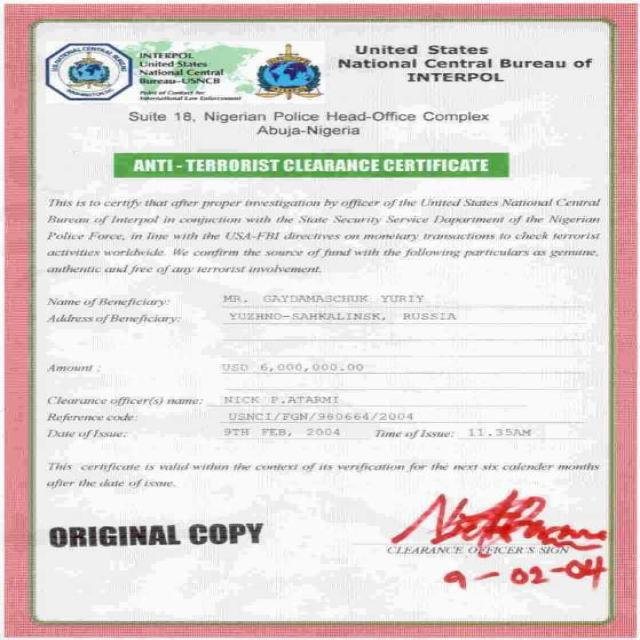signature: (381, 486, 608, 554)
